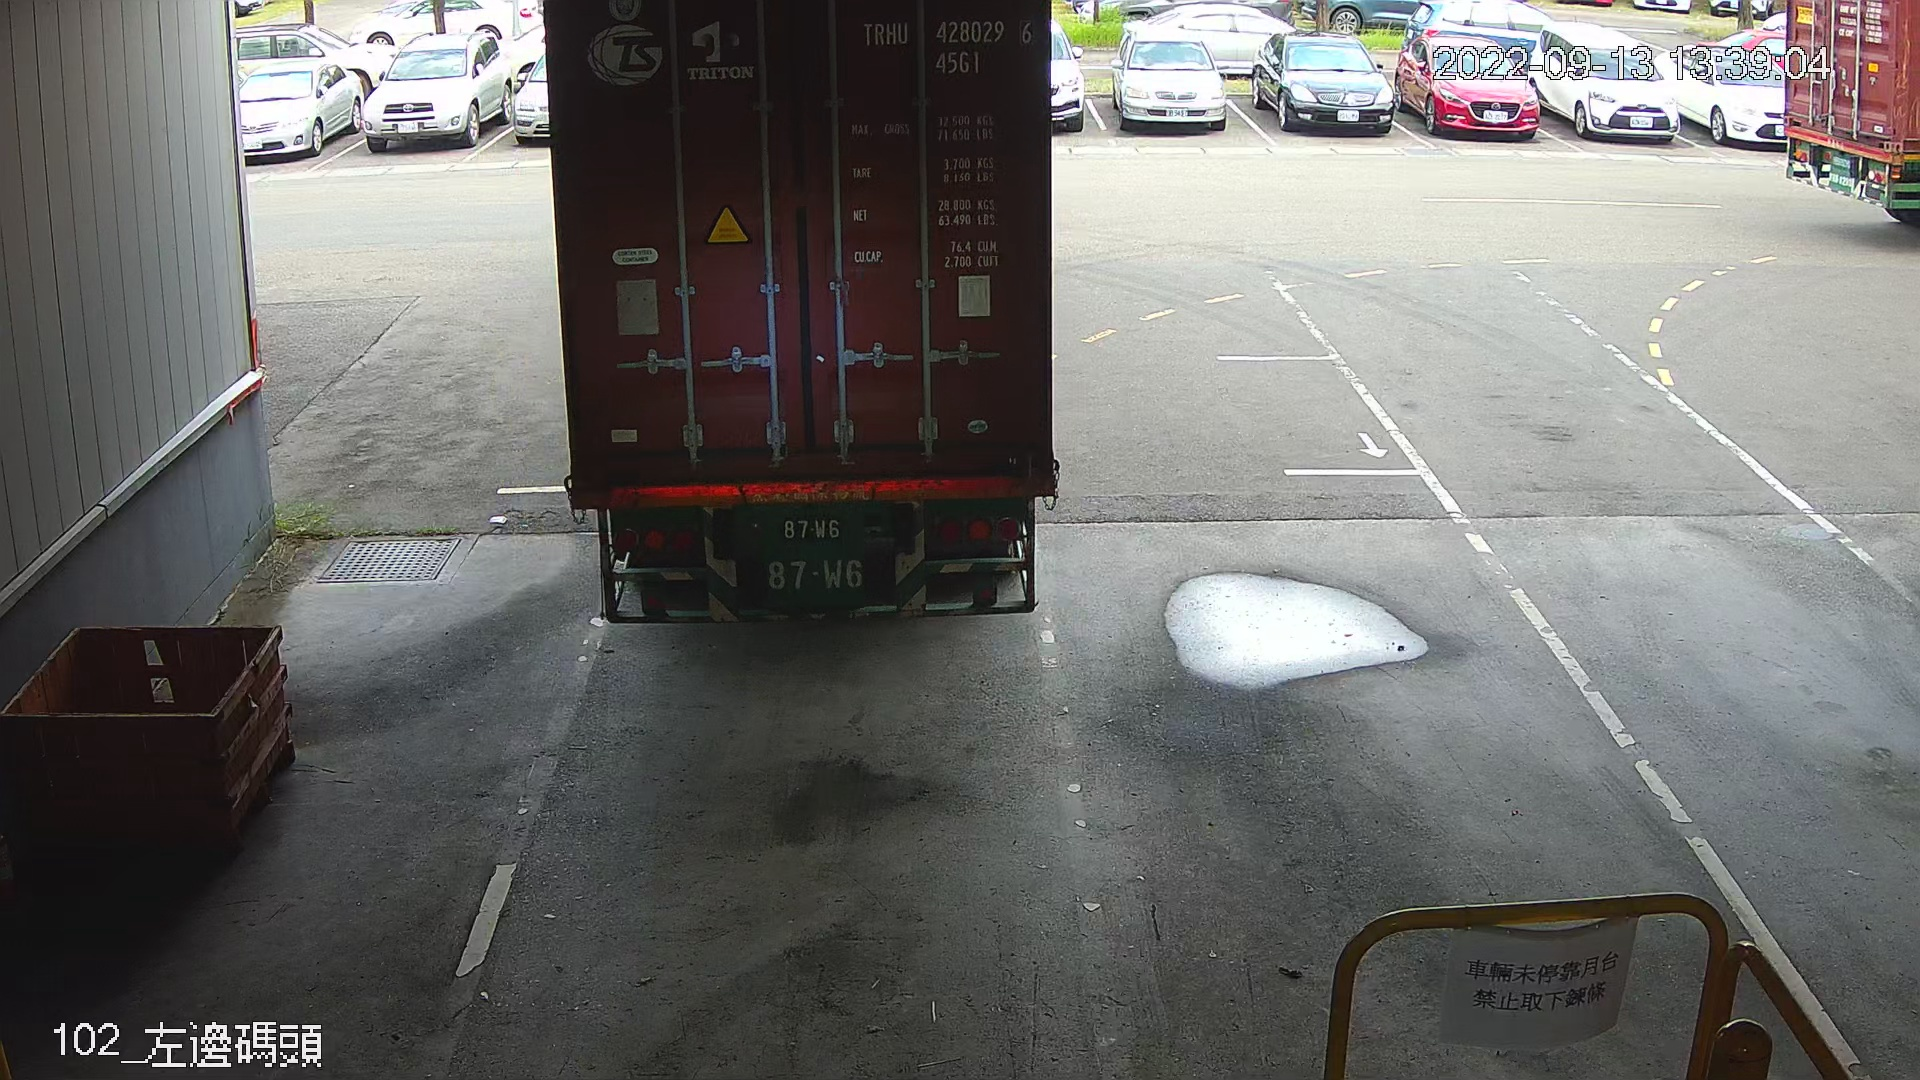container: (856, 11, 1042, 80)
